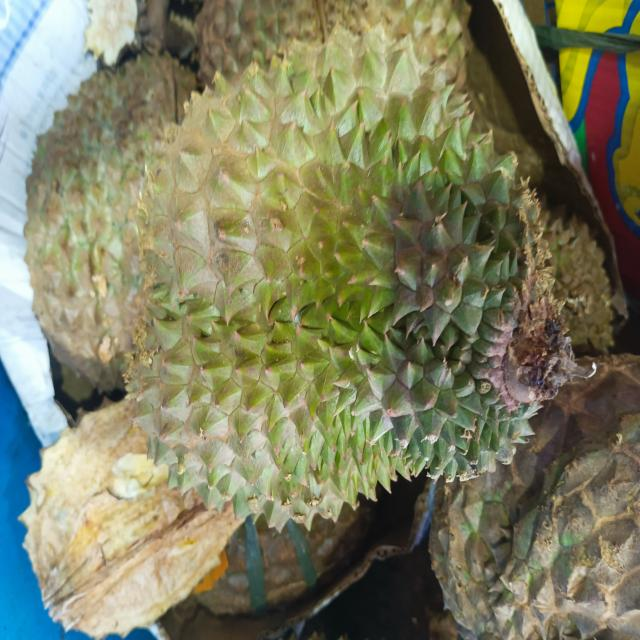immature: (166, 7, 555, 514)
mature: (24, 49, 199, 391)
